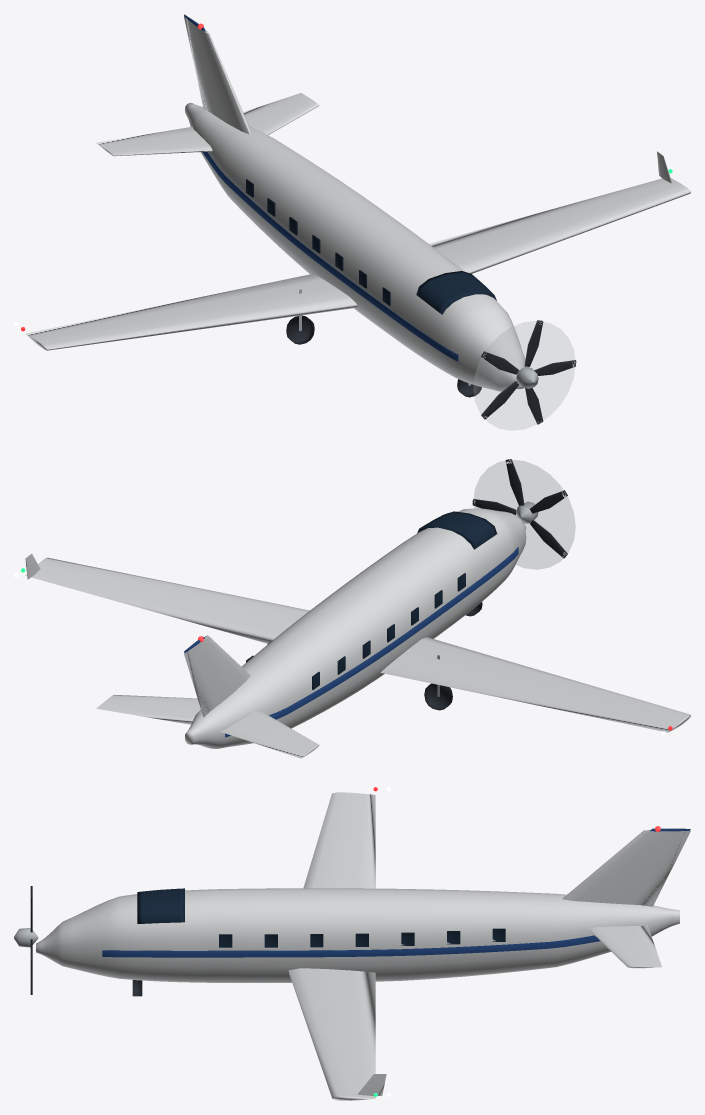
3 renders of one model, top to bottom at view 1: azimuth 30°, elevation 25°; view 2: azimuth 150°, elevation 25°; view 3: azimuth 270°, elevation 25°, orthographic. The views are drawn at different scales.
Visible parts, largest first — view 1: body, disc0, prop0, gearL; view 2: body, disc0, prop0, gearL; view 3: body, prop0.
Boxes of the visible parts, x1,y1,x2,y2 form: body: [25, 14, 690, 391]; disc0: [473, 321, 574, 430]; prop0: [481, 320, 576, 424]; gearL: [286, 289, 314, 344]; body: [25, 508, 690, 758]; disc0: [474, 460, 575, 569]; prop0: [472, 459, 567, 558]; gearL: [424, 655, 452, 710]; body: [36, 792, 690, 1100]; prop0: [14, 886, 38, 994].
Size of the model in its own units: 16.5 by 4.31 by 15.35.
